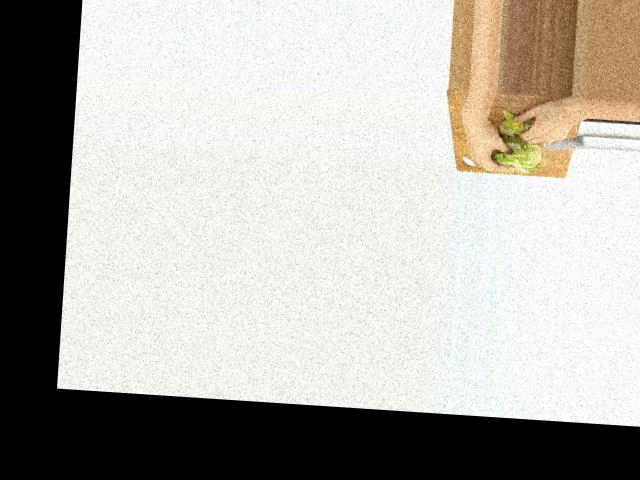lettuce: (493, 137, 543, 172)
